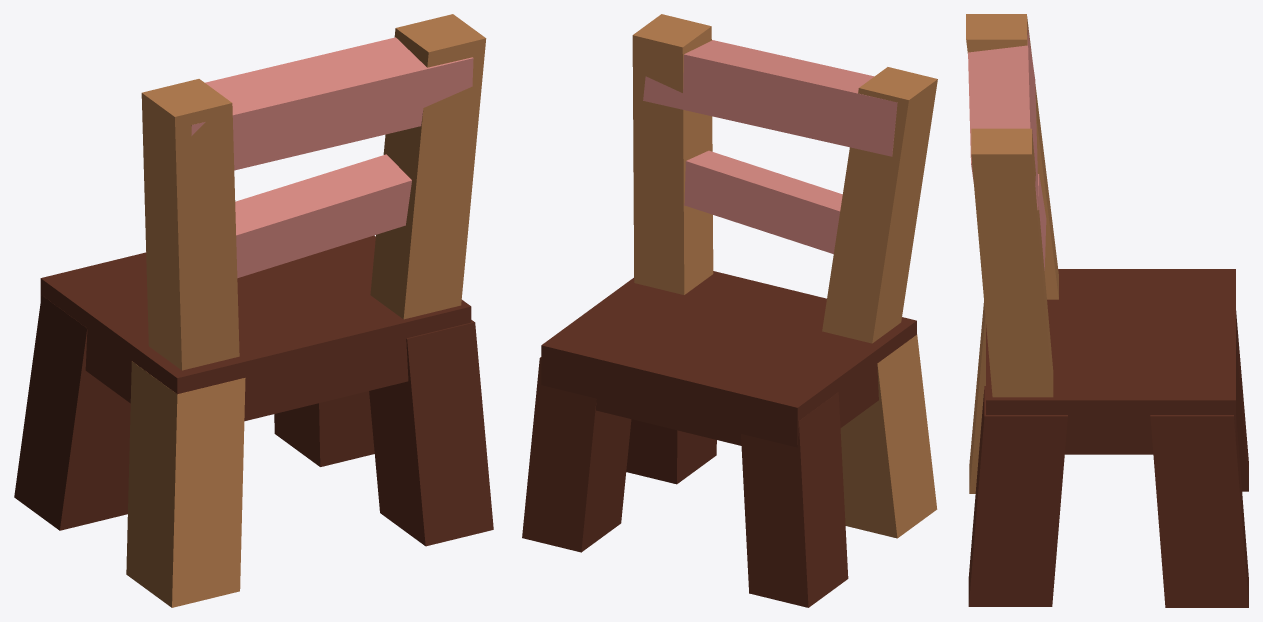
File: Silla.fbx
The picture shows the model from 3 angles, left to right: view 1: azimuth 30°, elevation 25°; view 2: azimuth 150°, elevation 25°; view 3: azimuth 270°, elevation 25°; orthographic projection. The views are drawn at different scales.
Parts seen in each view (by area): view 1: Silla; view 2: Silla; view 3: Silla.
Part boxes in pixels (x1,y1,x2,y2): Silla: (14, 14, 493, 607); Silla: (522, 14, 937, 607); Silla: (966, 14, 1248, 607).
Bounding box in the file's own units: 41.24 × 59 × 33.59.
